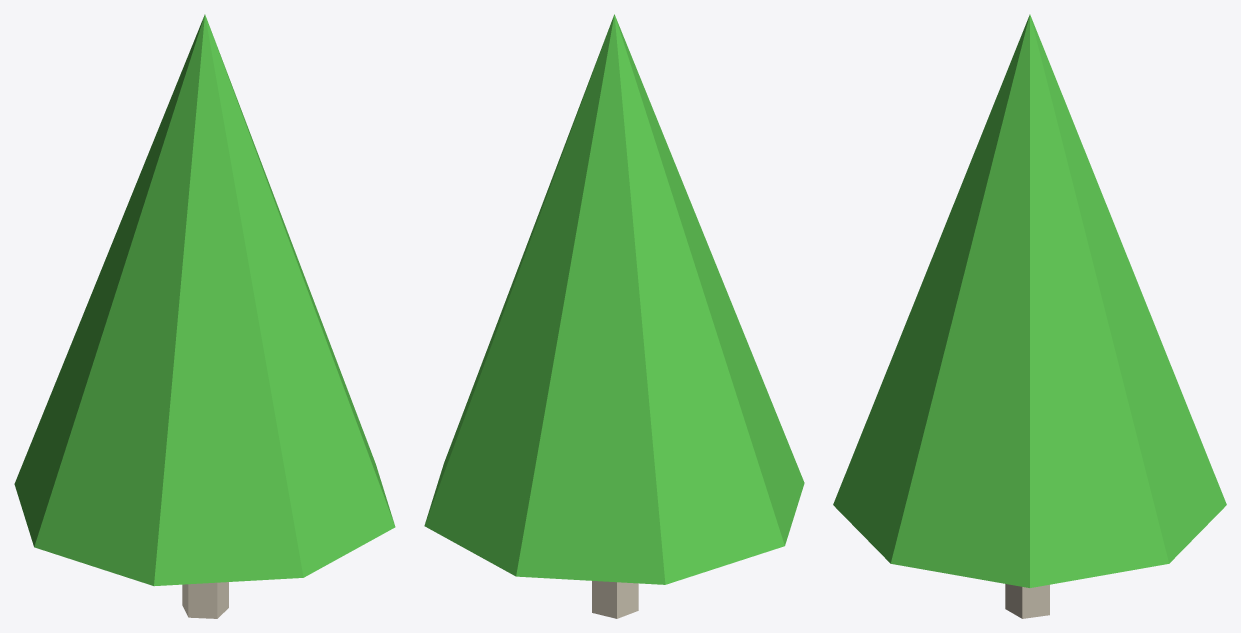
Rendered from land_tree_toy_cone_green.glb.
The picture shows the model from 3 angles, left to right: view 1: azimuth 30°, elevation 25°; view 2: azimuth 150°, elevation 25°; view 3: azimuth 270°, elevation 25°; orthographic projection.
Bounding box in the file's own units: 4.8 × 8 × 4.8.
